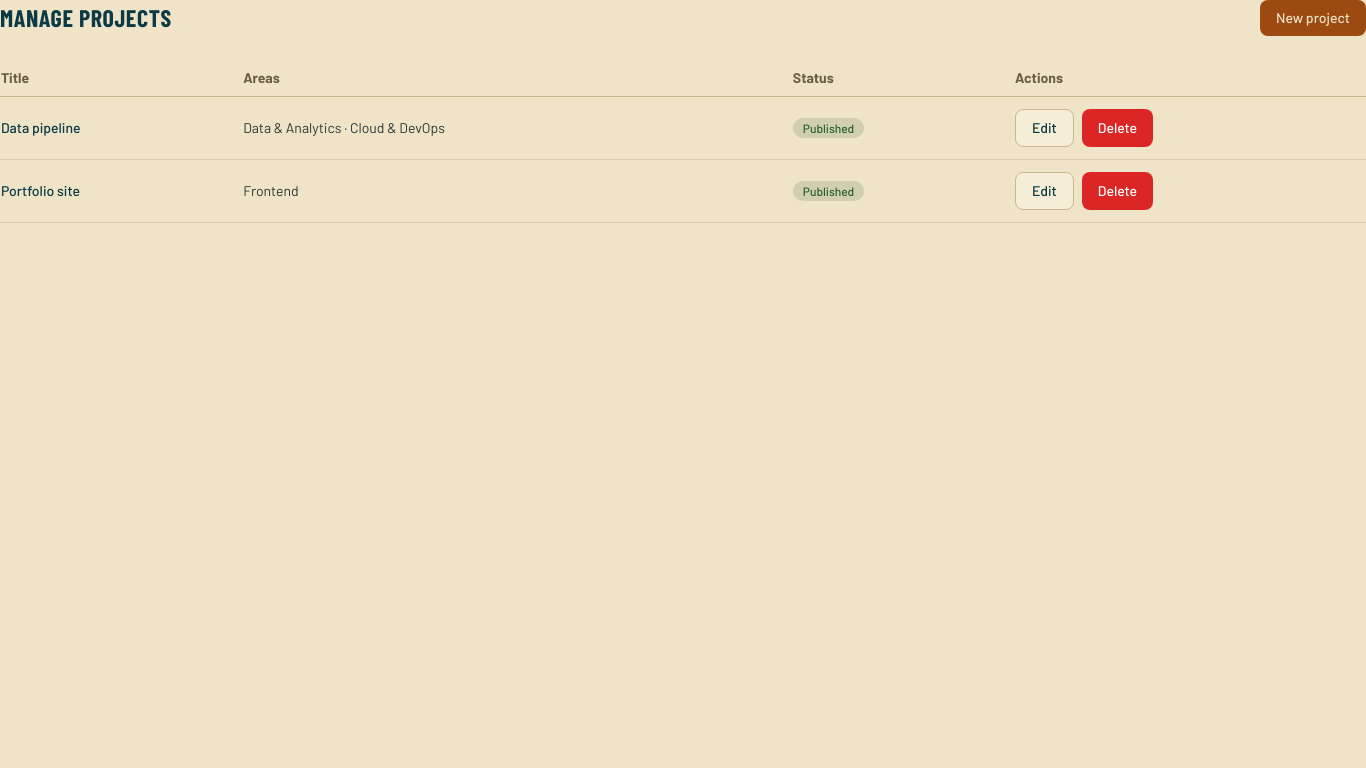
Scenario: AdminProjects › asks for confirmation and does nothing when cancelled
Expected: the text "Data pipeline" is shown, [0,96,242,160]
Click the button with aria-label "Delete Data pipeline" at (1117, 128), box [1082,109,1153,147]
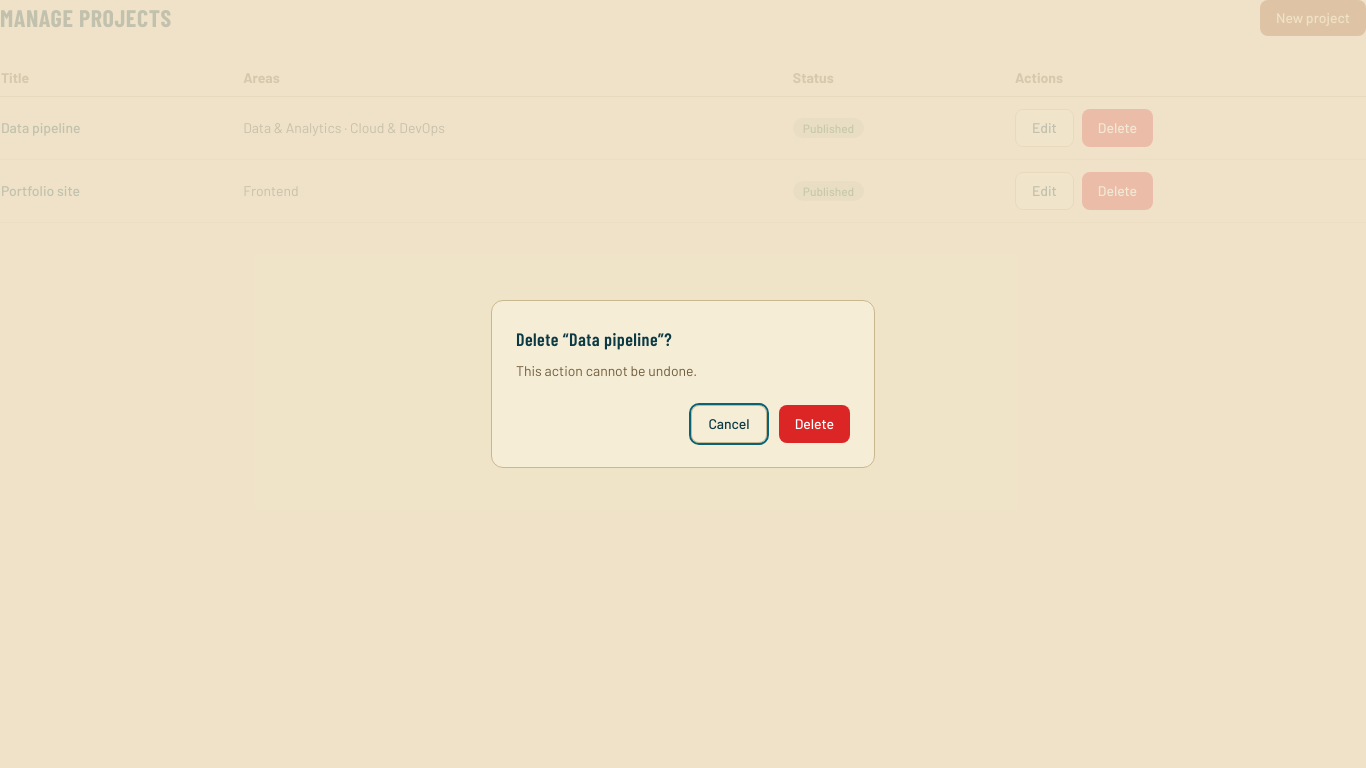
Expected: the dialog "Delete “Data pipeline”?" is shown, [491,300,875,468]
Click the button "Cancel" at (729, 424), box [691,405,767,443]
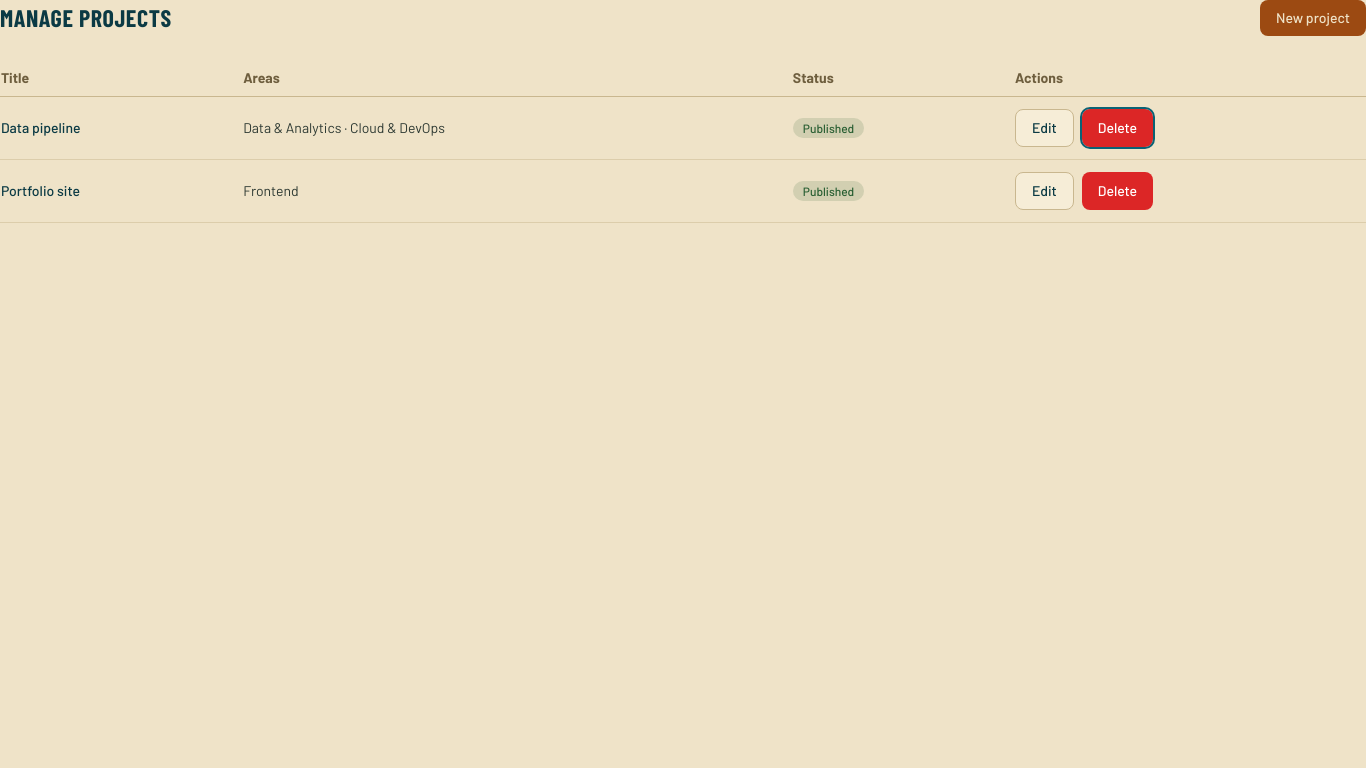
Expected: the dialog is gone
